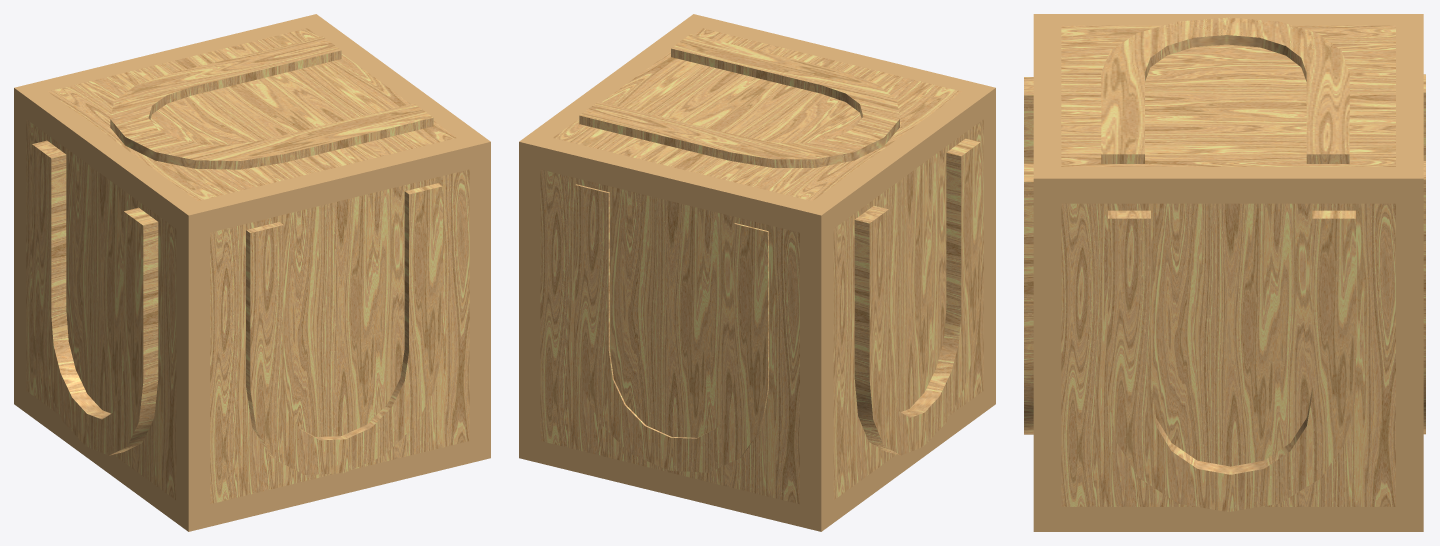
The model's file is Block U.fbx.
3 views of the same model, side by side, from view 1: azimuth 30°, elevation 25°; view 2: azimuth 150°, elevation 25°; view 3: azimuth 270°, elevation 25° (orthographic). The views are drawn at different scales.
Visible parts, largest first — view 1: Box, FRONT, LEFT, TOP; view 2: Box, BACK, LEFT, TOP; view 3: Box, RIGHT, TOP, FRONT, BACK.
Part boxes in pixels (x1,y1,x2,y2): Box: [14, 14, 490, 531]; FRONT: [246, 183, 442, 474]; LEFT: [32, 140, 158, 455]; TOP: [110, 36, 433, 169]; Box: [519, 14, 995, 531]; BACK: [575, 184, 768, 472]; LEFT: [854, 138, 980, 455]; TOP: [579, 34, 899, 167]; Box: [1033, 14, 1423, 531]; RIGHT: [1108, 210, 1355, 511]; TOP: [1101, 17, 1349, 163]; FRONT: [1024, 77, 1033, 434]; BACK: [1423, 74, 1425, 434].
Bounding box in the file's own units: 1.1 × 1.04 × 1.03.
2 materials, 2 textured.
